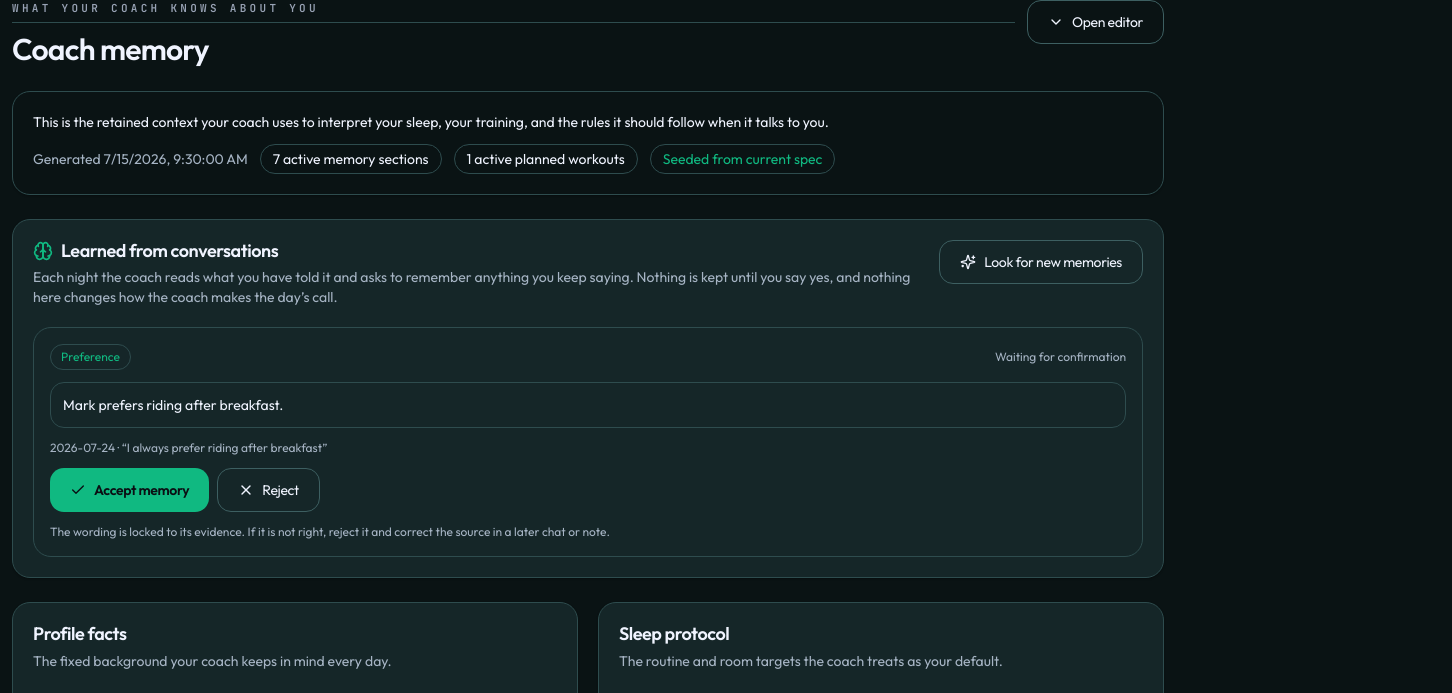
CoachStatePage › keeps the raw editor behind an admin toggle
Expected: the text "Admin editor" is not shown
What coordinates should you click on to do the following:
click the button "Open editor"
I would click on:
 (1096, 22)
Its box is [1027,0,1164,44].
(page scrolled)
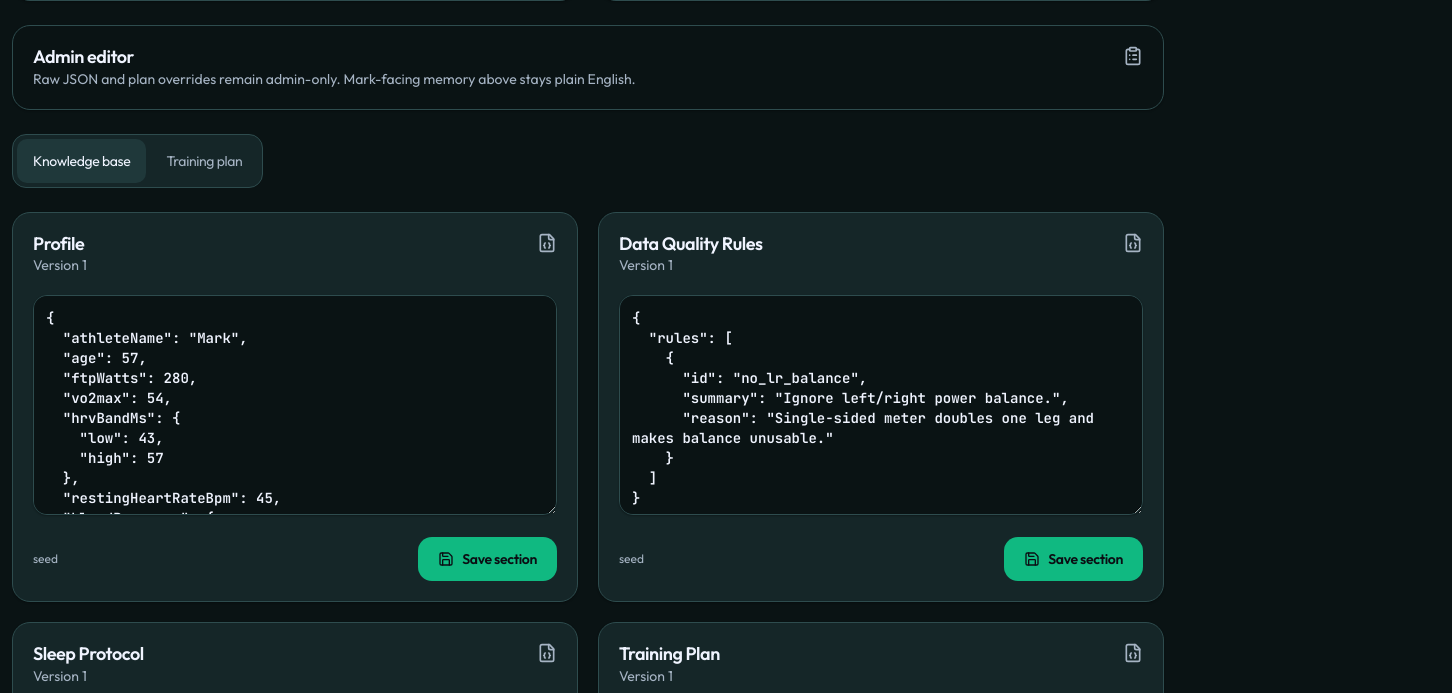
Result: the heading "Admin editor" is shown at [33,45,134,68]
Result: the text box named "Profile JSON editor" is shown at [33,295,557,515]
